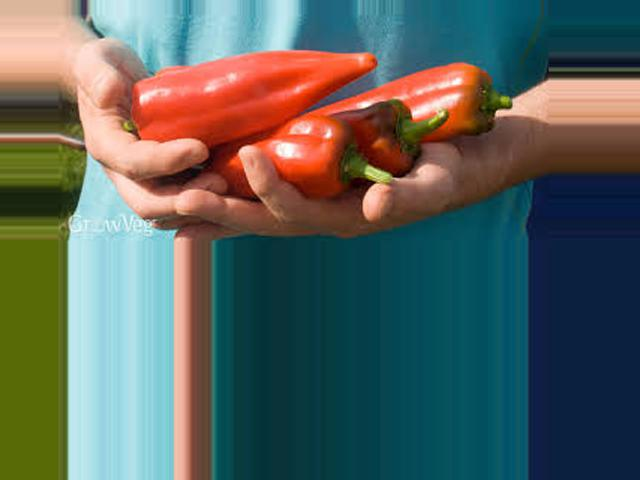bell_pepper: (354, 62, 513, 148)
